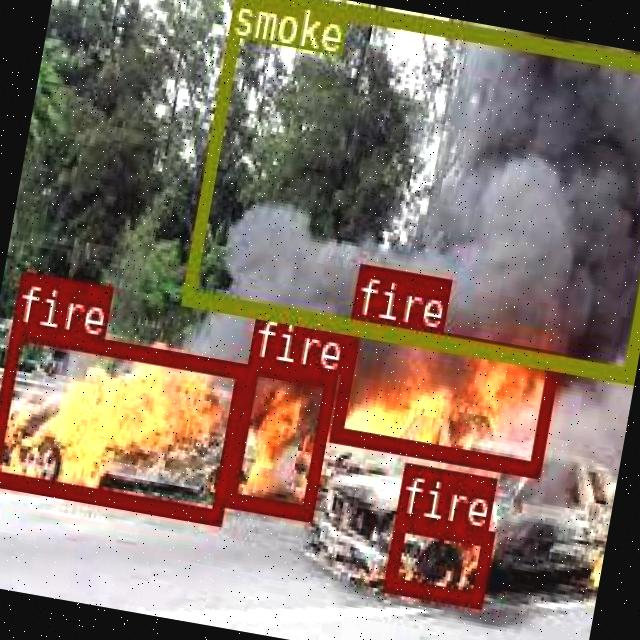fire: (0, 319, 245, 520), (328, 313, 558, 475), (222, 356, 336, 518), (382, 514, 492, 605)
smoke: (179, 0, 640, 378)
